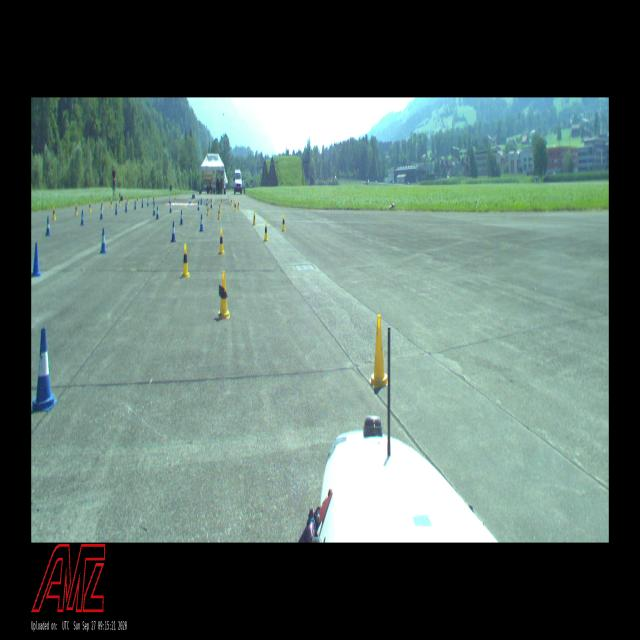blue_cone: (31, 327, 58, 412), (31, 242, 41, 277), (100, 228, 107, 253), (45, 216, 51, 237), (171, 221, 176, 242), (200, 214, 203, 232), (100, 204, 103, 220), (81, 210, 84, 225), (180, 210, 183, 225), (115, 202, 118, 215), (156, 206, 159, 219), (169, 202, 172, 213), (153, 202, 155, 215), (198, 200, 200, 211), (210, 199, 212, 209), (125, 202, 127, 212), (134, 200, 136, 210), (142, 198, 144, 208), (147, 197, 149, 206), (206, 197, 208, 206), (189, 196, 191, 204)
yellow_cone: (369, 315, 388, 388), (218, 270, 230, 318), (181, 244, 190, 278), (218, 228, 224, 255), (264, 222, 268, 242), (282, 214, 286, 232), (52, 206, 56, 220), (253, 211, 256, 225), (75, 203, 78, 216), (89, 200, 92, 213), (218, 210, 221, 220), (234, 201, 237, 211), (207, 204, 209, 216), (102, 200, 104, 210), (218, 204, 220, 213), (238, 200, 240, 209), (110, 199, 112, 208), (119, 197, 121, 206), (127, 196, 129, 205), (136, 196, 138, 203), (174, 196, 176, 203), (231, 198, 232, 205), (221, 197, 222, 204), (192, 197, 192, 202)
